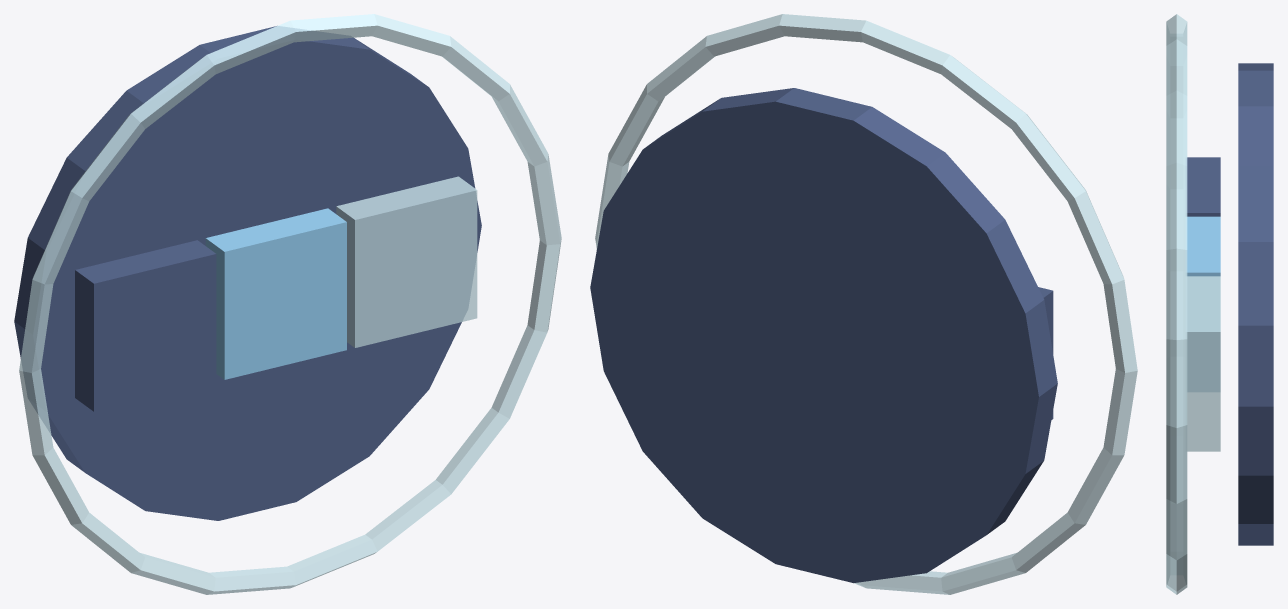
File: 06_biome_recolor_overlay_6.glb
The picture shows the model from 3 angles, left to right: view 1: azimuth 30°, elevation 25°; view 2: azimuth 150°, elevation 25°; view 3: azimuth 270°, elevation 25°; orthographic projection. The views are drawn at different scales.
Parts seen in each view (by area): view 1: palette_base, recolor_ring, swatch_base, swatch_accent, swatch_glow; view 2: palette_base, recolor_ring; view 3: palette_base, recolor_ring, swatch_glow, swatch_accent, swatch_base.
Boxes of the visible parts, x1=… form: palette_base: x1=14, y1=26, x2=481, y2=520; recolor_ring: x1=19, y1=14, x2=561, y2=594; swatch_base: x1=75, y1=240, x2=216, y2=411; swatch_accent: x1=205, y1=208, x2=346, y2=379; swatch_glow: x1=336, y1=176, x2=477, y2=347; palette_base: x1=590, y1=88, x2=1057, y2=583; recolor_ring: x1=595, y1=14, x2=1137, y2=594; palette_base: x1=1238, y1=63, x2=1273, y2=545; recolor_ring: x1=1166, y1=14, x2=1187, y2=594; swatch_glow: x1=1187, y1=276, x2=1220, y2=451; swatch_accent: x1=1186, y1=216, x2=1220, y2=391; swatch_base: x1=1186, y1=157, x2=1220, y2=216.
Size of the model in its own units: 1.33 by 1.33 by 0.2438.
